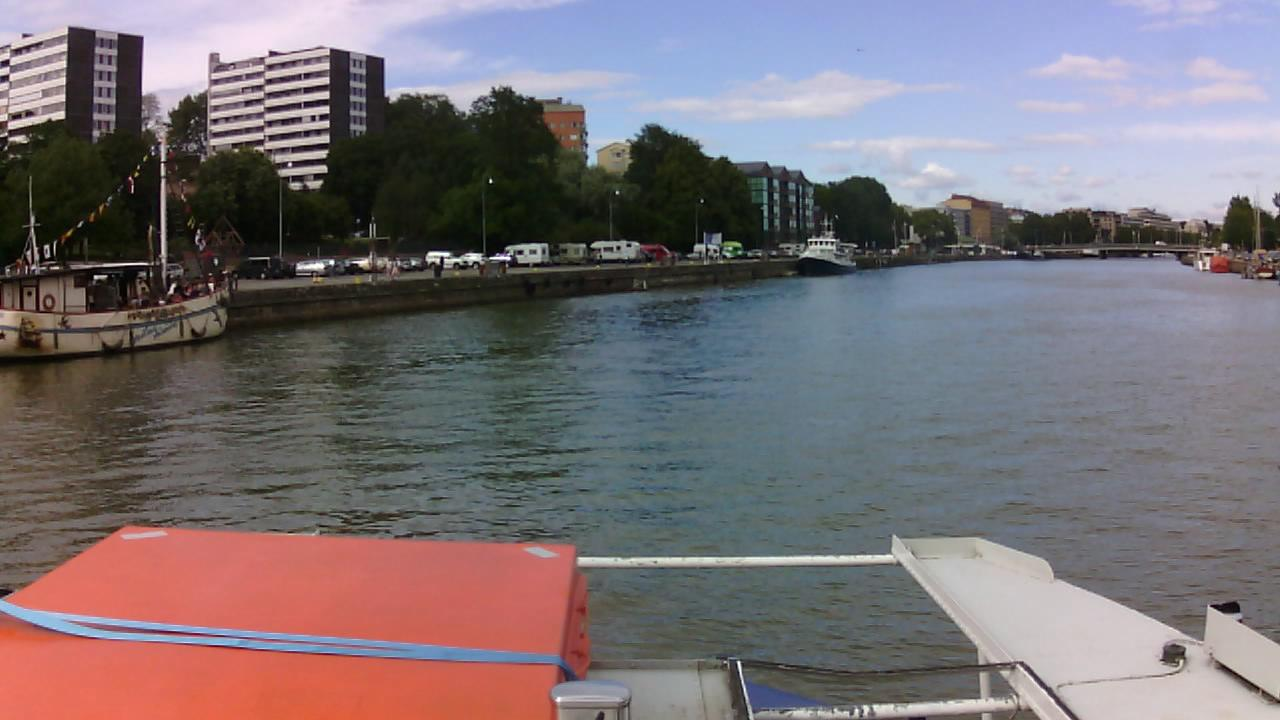Ship: (3, 133, 230, 366), (796, 235, 862, 279)
